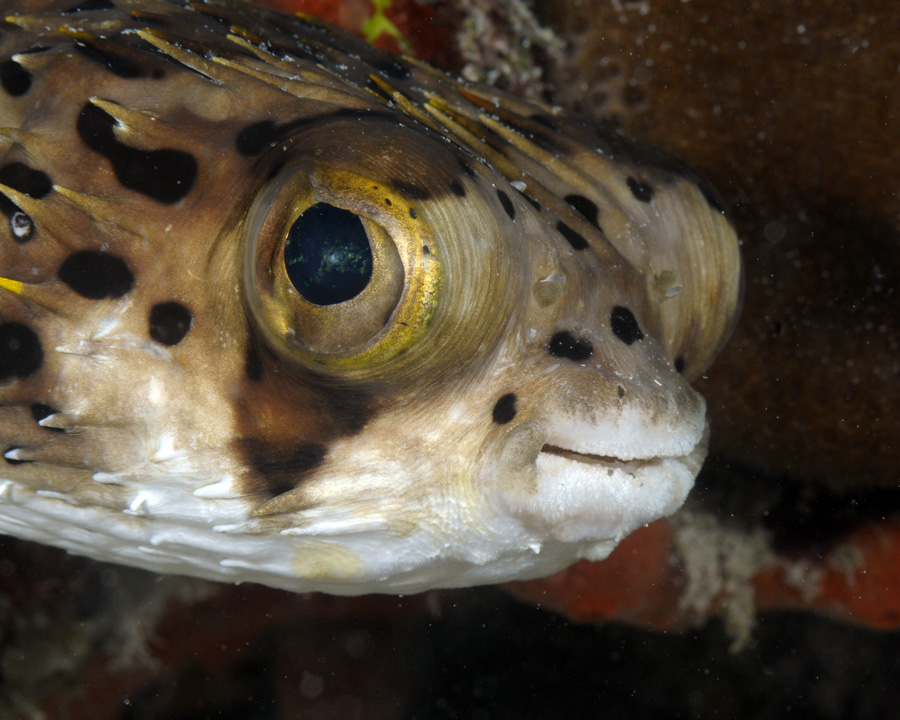Diodon_holocanthus: (1, 15, 748, 628)
